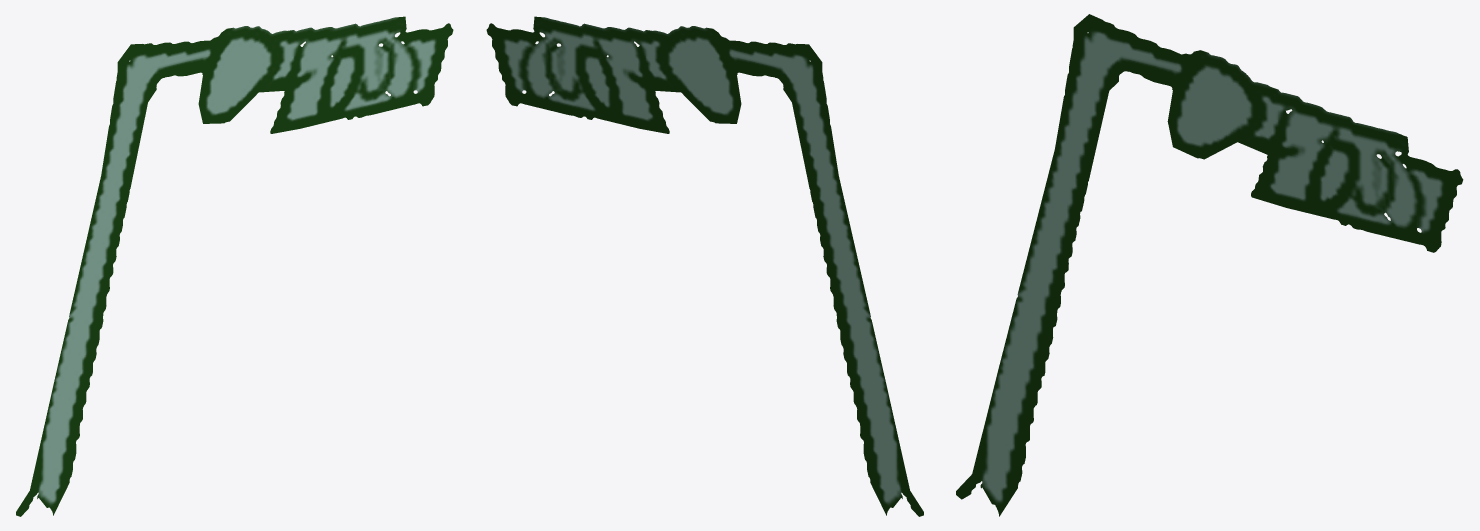
File: TrafficLight_04.fbx
The picture shows the model from 3 angles, left to right: view 1: azimuth 30°, elevation 25°; view 2: azimuth 150°, elevation 25°; view 3: azimuth 330°, elevation 25°; orthographic projection. The views are drawn at different scales.
Parts seen in each view (by area): view 1: 紅綠燈_04; view 2: 紅綠燈_04; view 3: 紅綠燈_04.
Boxes of the visible parts, x1,y1,x2,y2 form: 紅綠燈_04: (16,16,453,516); 紅綠燈_04: (486,16,923,516); 紅綠燈_04: (956,14,1463,516).
Bounding box in the file's own units: 212 × 207 × 2.47e-05.
1 material, 1 textured.
